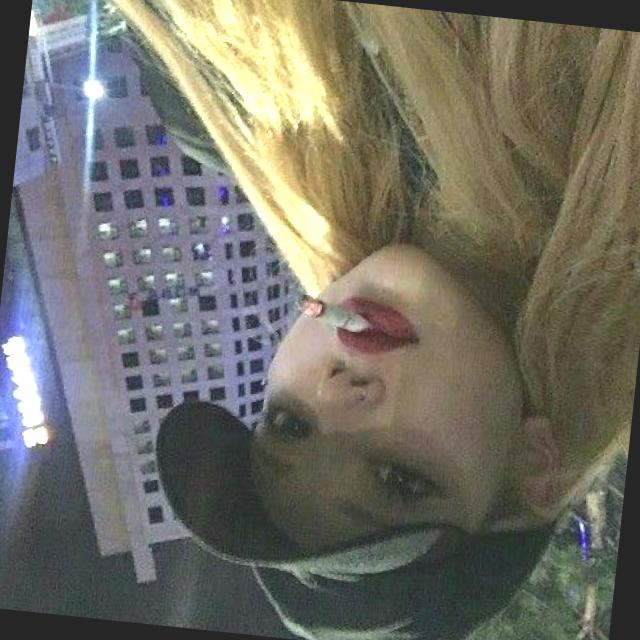cigarette: (283, 276, 393, 360)
